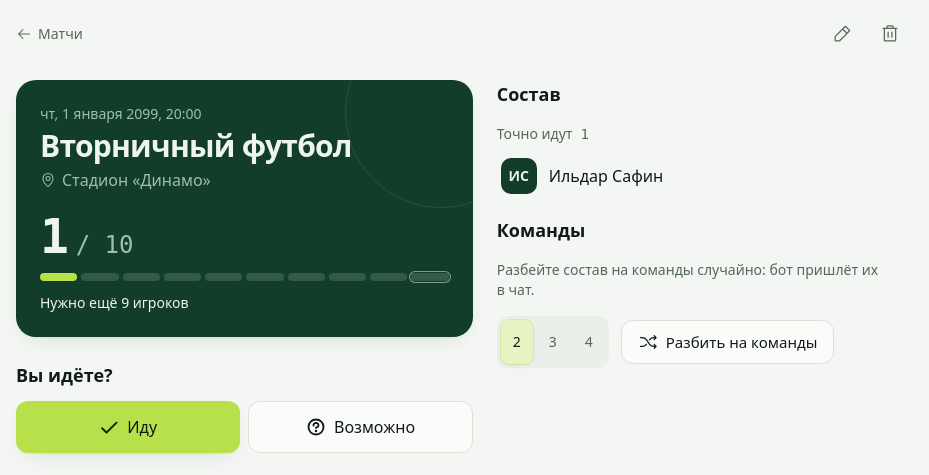
Test: teams › lets the organiser split the squad and shows the teams
The image size is (929, 475).
Step 1. Click the radio button labelled "3" → (553, 342), box [537,320,569,364]
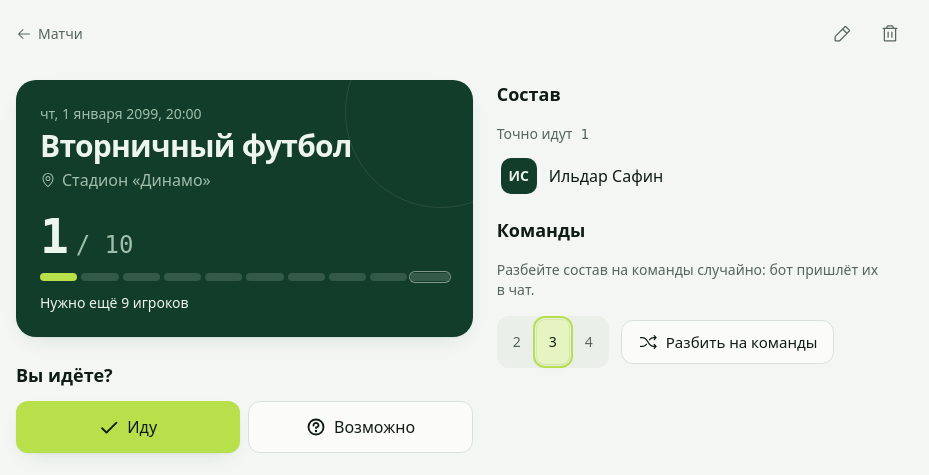
Step 2. Click the button "Разбить на команды" → (728, 342), box [621,320,834,364]
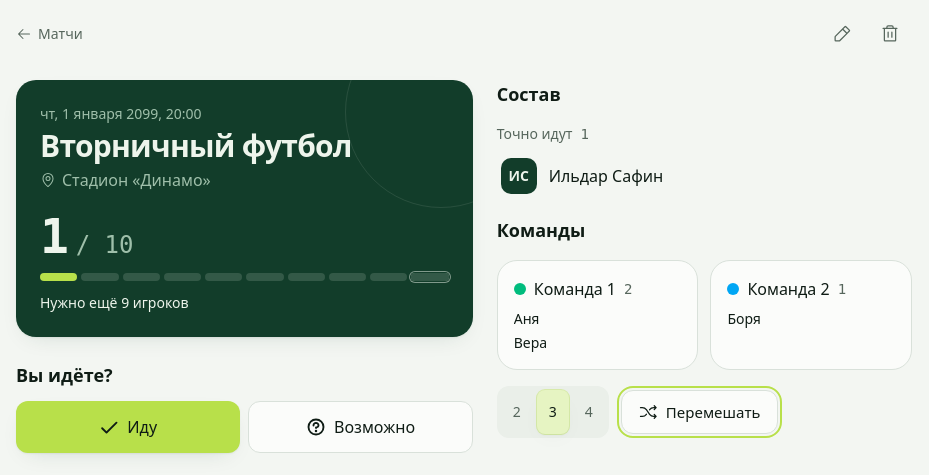
Now the heading "Команда 2 1" is shown, box [727,278,846,300]
Now the element "Команды" shows "Вера", box [514,333,547,352]
Now the button "Перемешать" is shown, box [621,390,778,434]
